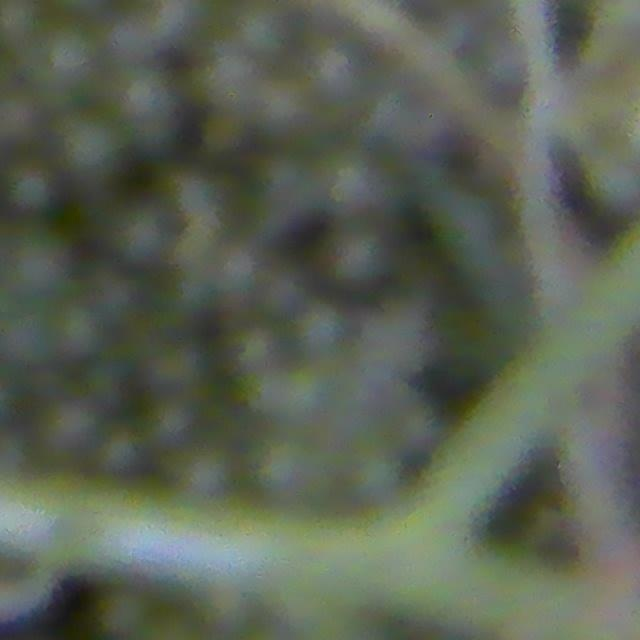SeaGrape: (33, 23, 103, 101), (300, 42, 367, 118), (57, 112, 125, 184), (220, 9, 295, 74), (137, 0, 221, 57), (109, 72, 175, 139), (323, 225, 390, 290), (0, 161, 61, 224), (294, 302, 349, 358)
